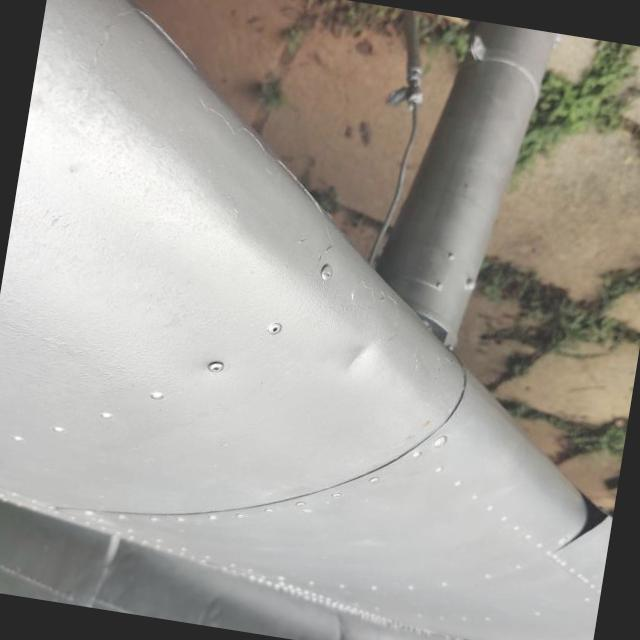dent: (304, 298, 418, 414)
